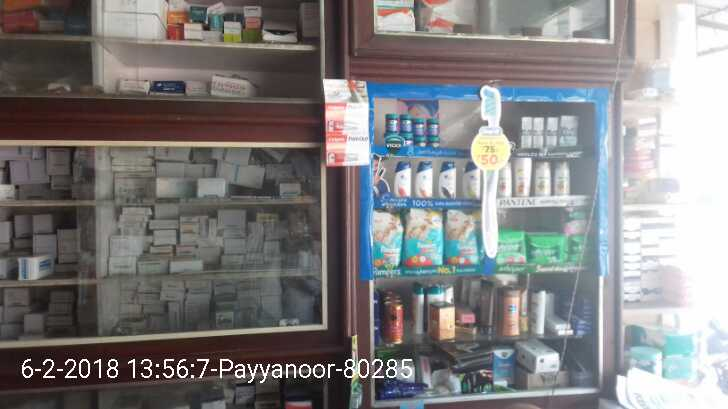vicks: (384, 114, 442, 151)
